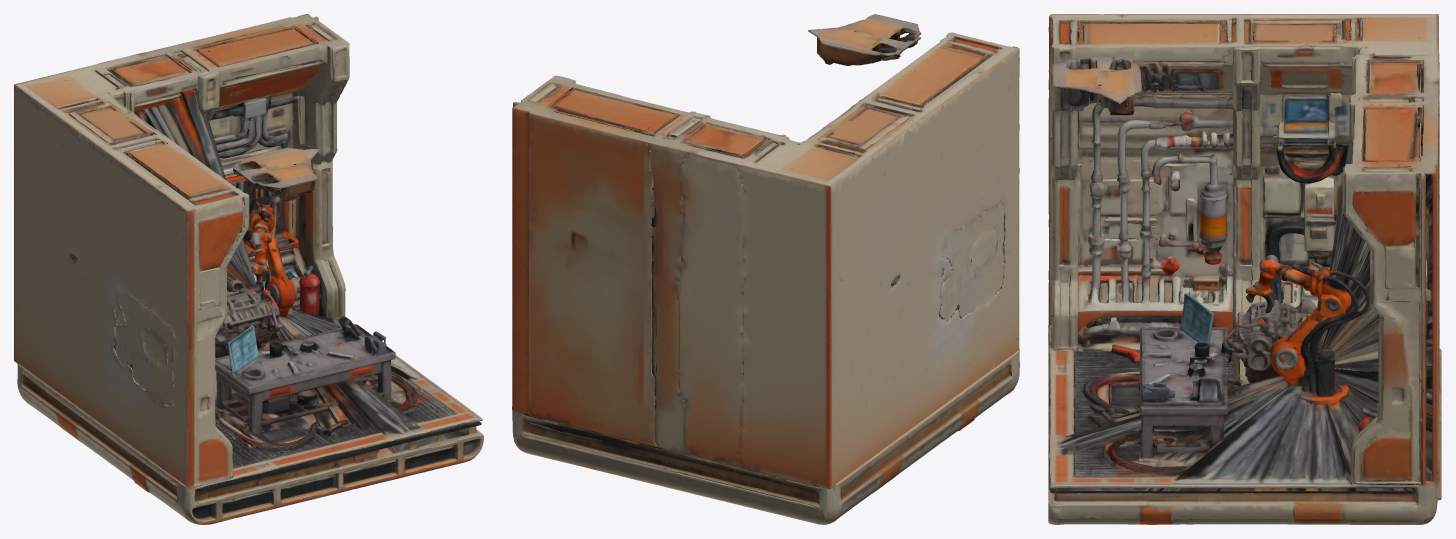
File: place_mechanics.glb
3 renders of one model, left to right at view 1: azimuth 30°, elevation 25°; view 2: azimuth 150°, elevation 25°; view 3: azimuth 270°, elevation 25°, orthographic. The views are drawn at different scales.
Visible parts, largest first — view 1: world; view 2: world; view 3: world.
Part boxes in pixels (x1,y1,x2,y2): world: (14,14,483,524); world: (512,14,1019,524); world: (1048,14,1441,524).
Size of the model in its own units: 1.28 by 1.3 by 1.3.
Materials: 1 (1 with a texture image).
